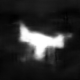plane: (17, 20, 72, 64)
